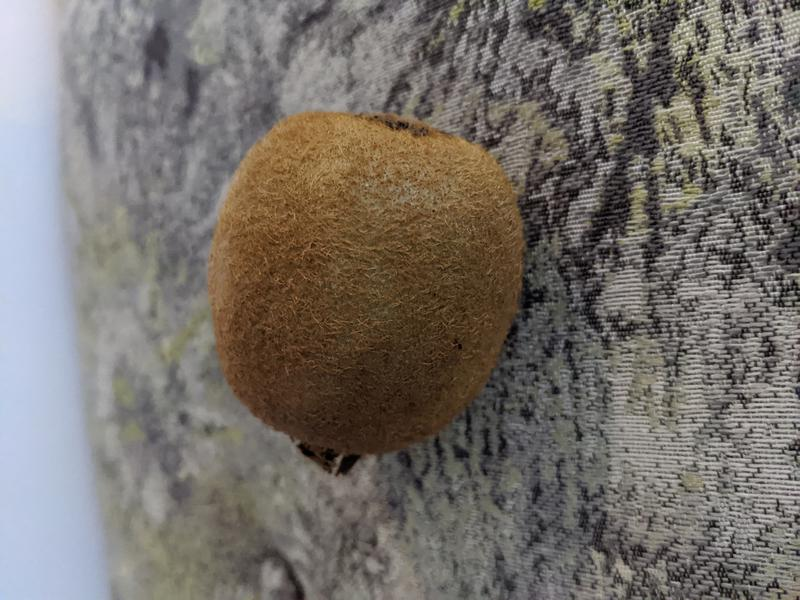kiwi: (209, 109, 525, 478)
